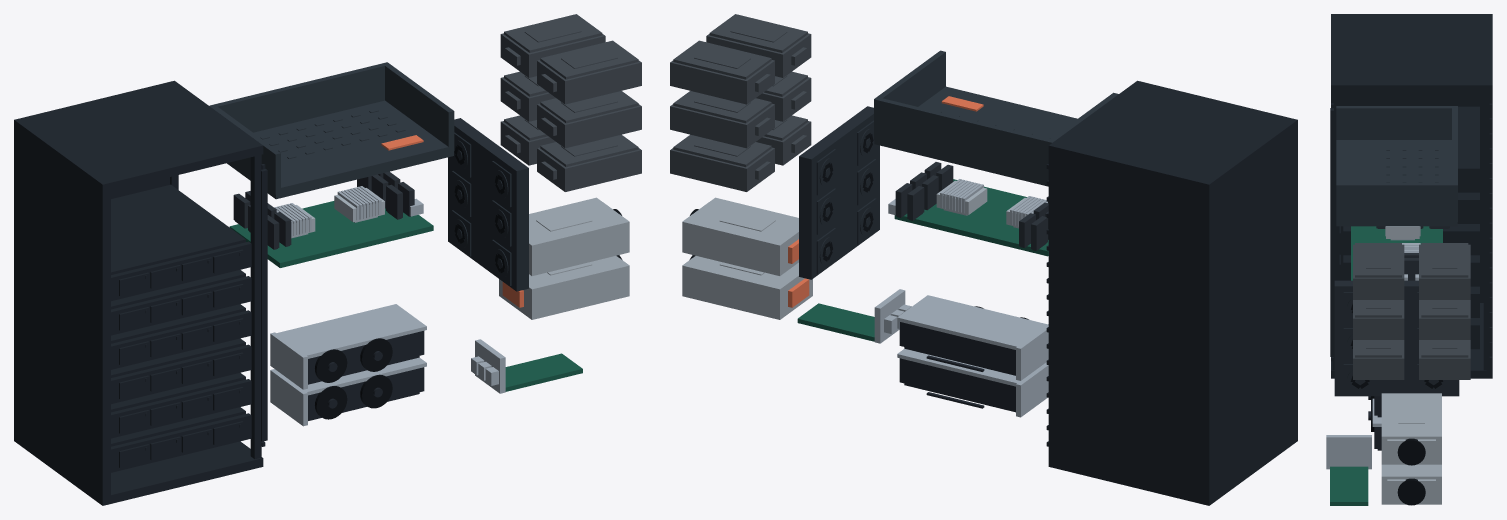
The model's file is cocometric-modern.glb.
The picture shows the model from 3 angles, left to right: view 1: azimuth 30°, elevation 25°; view 2: azimuth 150°, elevation 25°; view 3: azimuth 270°, elevation 25°; orthographic projection. The views are drawn at different scales.
Parts seen in each view (by area): view 1: Rack_Left_Side, Rack_Top, Exploded_Chassis_Base, Installed_Server_5, Fan_Wall, Exploded_Chassis_Back, PSU_0, Motherboard, Rack_Bottom, PSU_1, GPU_1_Backplate, Rack_Right_Rail_Front (+36 smaller); view 2: Rack_Back, Rack_Left_Side, Rack_Top, Exploded_Chassis_Back, Fan_Wall, PSU_0, PSU_1, Exploded_Chassis_Base, GPU_1_Backplate, Motherboard, GPU_0_Body, GPU_1_Body (+17 smaller); view 3: Rack_Top, Exploded_Chassis_Base, Exploded_Chassis_Right, Exploded_Chassis_Left, Fan_Wall, Rack_Left_Side, PSU_0, Installed_Server_5, Rack_Back, NIC_PCB, NIC_Bracket, Drive_0_0 (+41 smaller).
Part boxes in pixels (bbox=[...]): Rack_Left_Side: bbox=[14, 118, 110, 505]; Rack_Top: bbox=[14, 80, 263, 192]; Exploded_Chassis_Base: bbox=[227, 100, 453, 199]; Installed_Server_5: bbox=[111, 184, 245, 274]; Fan_Wall: bbox=[448, 118, 528, 291]; Exploded_Chassis_Back: bbox=[210, 62, 389, 132]; PSU_0: bbox=[529, 197, 629, 275]; Motherboard: bbox=[229, 201, 433, 267]; Rack_Bottom: bbox=[14, 438, 263, 505]; PSU_1: bbox=[499, 256, 629, 319]; GPU_1_Backplate: bbox=[274, 304, 426, 358]; Rack_Right_Rail_Front: bbox=[250, 154, 261, 459]; Rack_Back: bbox=[1048, 153, 1212, 497]; Rack_Left_Side: bbox=[1201, 118, 1297, 505]; Rack_Top: bbox=[1048, 80, 1297, 192]; Exploded_Chassis_Back: bbox=[874, 98, 1051, 181]; Fan_Wall: bbox=[799, 106, 879, 279]; PSU_0: bbox=[682, 197, 798, 275]; PSU_1: bbox=[682, 256, 812, 319]; Exploded_Chassis_Base: bbox=[874, 86, 1077, 186]; GPU_1_Backplate: bbox=[897, 295, 1048, 349]; Motherboard: bbox=[894, 179, 1048, 256]; GPU_0_Body: bbox=[899, 358, 1015, 410]; GPU_1_Body: bbox=[899, 322, 1015, 373]; Rack_Top: bbox=[1331, 14, 1492, 93]; Exploded_Chassis_Base: bbox=[1336, 140, 1457, 226]; Exploded_Chassis_Right: bbox=[1336, 183, 1457, 221]; Exploded_Chassis_Left: bbox=[1336, 106, 1457, 139]; Fan_Wall: bbox=[1334, 280, 1459, 396]; Rack_Left_Side: bbox=[1331, 14, 1492, 302]; PSU_0: bbox=[1381, 393, 1441, 464]; Installed_Server_5: bbox=[1458, 106, 1479, 192]; Rack_Back: bbox=[1486, 92, 1492, 371]; NIC_PCB: bbox=[1330, 466, 1368, 505]; NIC_Bracket: bbox=[1326, 435, 1371, 469]; Drive_0_0: bbox=[1419, 244, 1470, 299].
Bounding box in the file's own units: 8.02 × 4.4 × 2.26.
